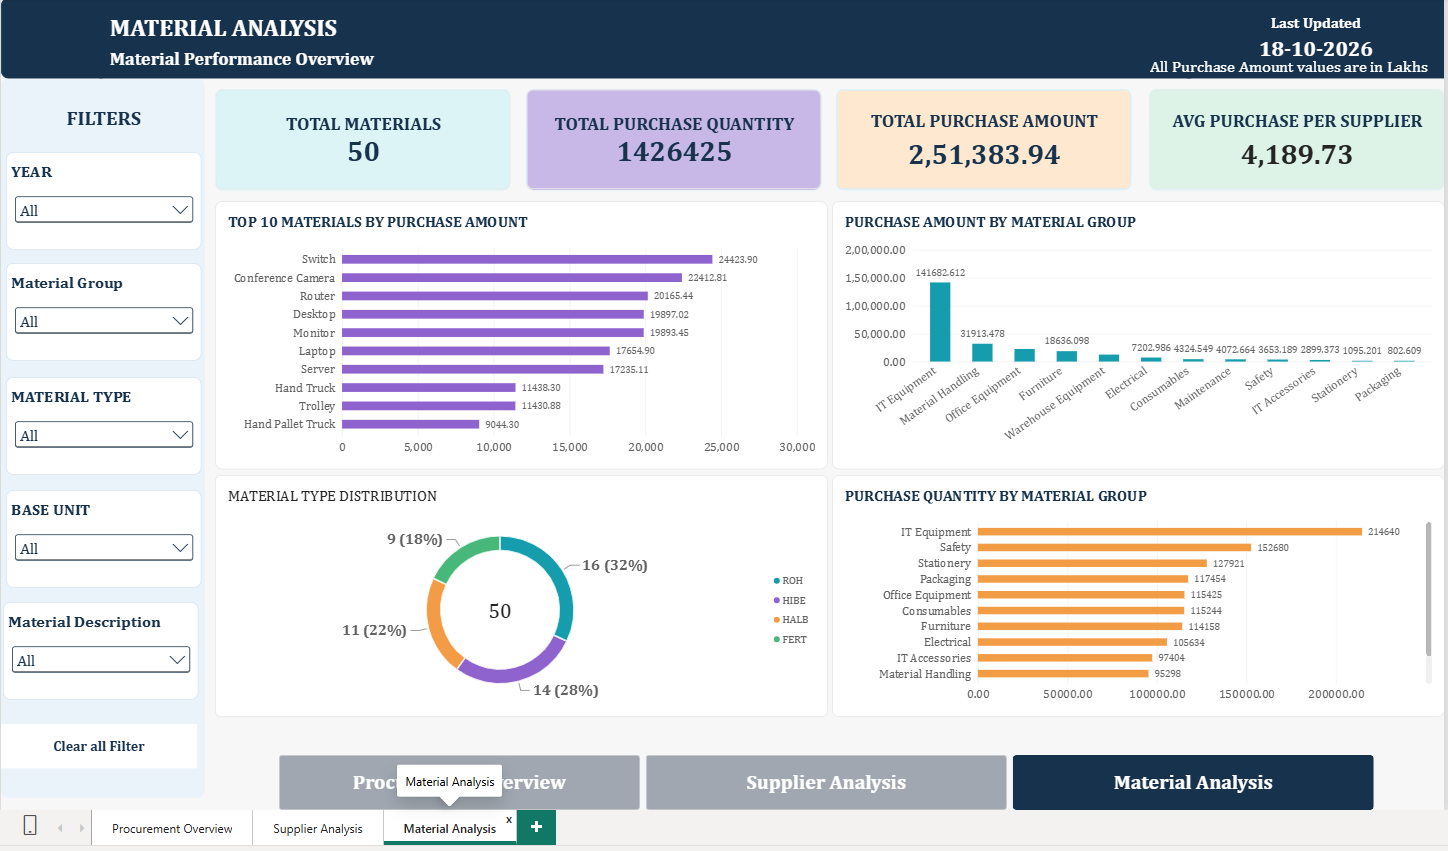

What the dashboard file says about the page in this screenshot:
{"tool":"powerbi","page":{"name":"Material Analysis","canvas":[1920,1080],"ordinal":2},"visuals":[{"type":"textbox","title":"MATERIAL ANALYSIS","box":[123.9,0,1466.7,106.7],"z":0},{"type":"shape","box":[0.4,107.7,271.5,956.4],"z":0,"group":"g1"},{"type":"cardVisual","fields":{"Data":["Data.Last Updated"]},"box":[1578,0,342,106.7],"z":1000},{"type":"actionButton","box":[-0.3,965.7,260.7,59.3],"z":1000,"group":"g1"},{"type":"textbox","box":[0,0,141.5,106.5],"z":2000},{"type":"textbox","box":[6.2,137,259.9,64.2],"z":2000,"group":"g1"},{"type":"group","id":"g1","title":"Group 1","box":[-0.3,107.7,272.1,956.4],"z":3000},{"type":"slicer","title":"YEAR","fields":{"Values":["Dim_Calender.Year"]},"box":[5.7,205.2,259.6,130],"z":3000,"group":"g1"},{"type":"cardVisual","fields":{"Data":["Data.Total Materials"]},"box":[284.9,121.5,393,134.9],"z":4000},{"type":"slicer","title":"Material Group","fields":{"Values":["Dim_Material.Material Group"]},"box":[5.7,352.6,259.9,129.8],"z":4000,"group":"g1"},{"type":"cardVisual","fields":{"Data":["Data.Total Purchase Quantity"]},"box":[698.9,121.5,393,134.9],"z":5000},{"type":"slicer","title":"MATERIAL TYPE","fields":{"Values":["Dim_Material.Material Type"]},"box":[5.7,504.3,259.6,130],"z":5000,"group":"g1"},{"type":"cardVisual","fields":{"Data":["Data.Total Purchase Amount (Lakhs)"]},"box":[1111,121.5,393,134.9],"z":6000},{"type":"slicer","title":"BASE UNIT","fields":{"Values":["Data.Base Unit"]},"box":[5.7,654.6,259.6,130],"z":6000,"group":"g1"},{"type":"cardVisual","fields":{"Data":["Data.Average Purchase per Supplier (Lakhs)"]},"box":[1526.9,121.5,393.1,134.8],"z":7000},{"type":"slicer","title":"Material Description","fields":{"Values":["Dim_Material.Material Description"]},"box":[1.8,803.6,259.6,130],"z":7000,"group":"g1"},{"type":"clusteredBarChart","title":"TOP 10 MATERIALS BY PURCHASE AMOUNT","fields":{"Category":["Dim_Material.Material Description"],"Y":["Data.Total Purchase Amount (Lakhs)"]},"box":[285,270,815,357],"z":8000},{"type":"pageNavigator","box":[370,1006.7,1458.3,73.3],"z":9000},{"type":"clusteredColumnChart","title":"PURCHASE AMOUNT BY MATERIAL GROUP","fields":{"Category":["Dim_Material.Material Group"],"Y":["Data.Total Purchase Amount (Lakhs)"]},"box":[1104.8,269.7,815.2,356.6],"z":10000},{"type":"donutChart","title":"MATERIAL TYPE DISTRIBUTION","fields":{"Category":["Dim_Material.Material Type"],"Y":["Count(Data.Material ID)"]},"box":[285,633.9,815.2,321.5],"z":11000},{"type":"clusteredBarChart","title":"PURCHASE QUANTITY BY MATERIAL GROUP","fields":{"Category":["Dim_Material.Material Group"],"Y":["Data.Total Purchase Quantity"]},"box":[1105,634,815,322],"z":12000},{"type":"textbox","box":[1528.1,78.7,391.9,44.1],"z":12001}]}

Visuals, with their boxes on the page's 1920x1080 design canvas (x1, y1, x2, y2). These are canvas units, not pixel positions in the 1448x851 screenshot, which may show the page scaled, cropped or inside an application window:
"MATERIAL ANALYSIS" textbox: region(124, 0, 1591, 107)
shape: region(0, 108, 272, 1064)
cardVisual - Data.Last Updated: region(1578, 0, 1920, 107)
actionButton: region(0, 966, 260, 1025)
textbox: region(0, 0, 142, 106)
textbox: region(6, 137, 266, 201)
"Group 1" group: region(0, 108, 272, 1064)
"YEAR" slicer: region(6, 205, 265, 335)
cardVisual - Data.Total Materials: region(285, 122, 678, 256)
"Material Group" slicer: region(6, 353, 266, 482)
cardVisual - Data.Total Purchase Quantity: region(699, 122, 1092, 256)
"MATERIAL TYPE" slicer: region(6, 504, 265, 634)
cardVisual - Data.Total Purchase Amount (Lakhs): region(1111, 122, 1504, 256)
"BASE UNIT" slicer: region(6, 655, 265, 785)
cardVisual - Data.Average Purchase per Supplier (Lakhs): region(1527, 122, 1920, 256)
"Material Description" slicer: region(2, 804, 261, 934)
"TOP 10 MATERIALS BY PURCHASE AMOUNT" clusteredBarChart: region(285, 270, 1100, 627)
pageNavigator: region(370, 1007, 1828, 1080)
"PURCHASE AMOUNT BY MATERIAL GROUP" clusteredColumnChart: region(1105, 270, 1920, 626)
"MATERIAL TYPE DISTRIBUTION" donutChart: region(285, 634, 1100, 955)
"PURCHASE QUANTITY BY MATERIAL GROUP" clusteredBarChart: region(1105, 634, 1920, 956)
textbox: region(1528, 79, 1920, 123)
